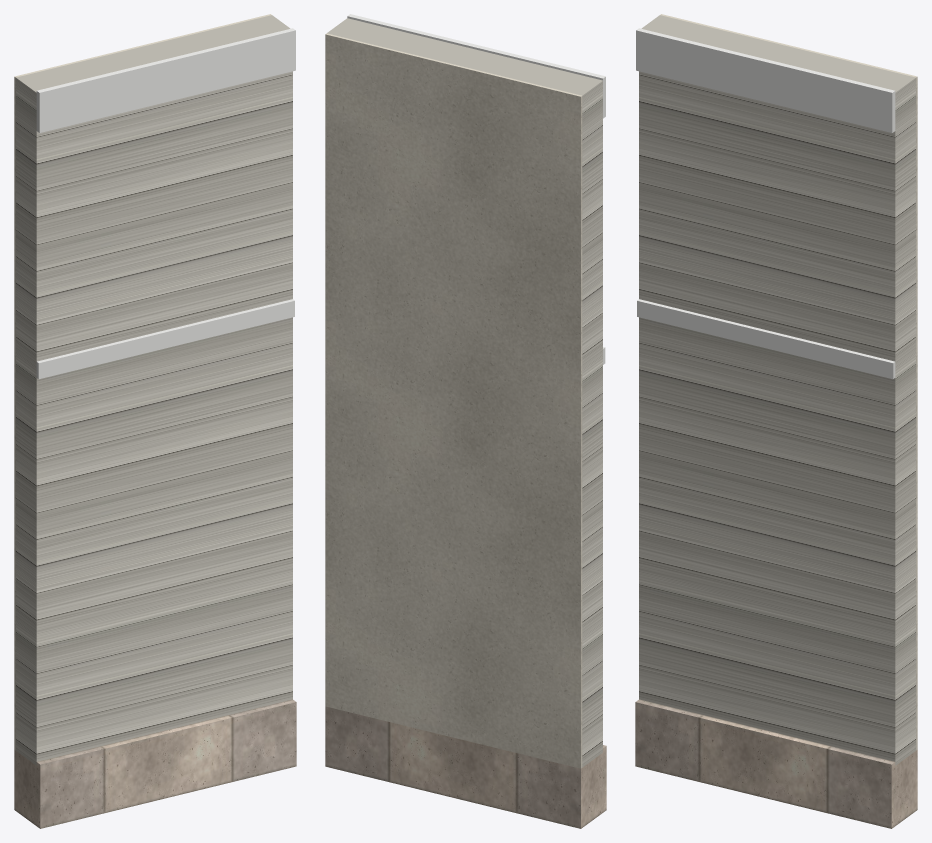
The model's file is nave_wall_belt.glb.
The picture shows the model from 3 angles, left to right: view 1: azimuth 30°, elevation 25°; view 2: azimuth 150°, elevation 25°; view 3: azimuth 330°, elevation 25°; orthographic projection.
Visible parts, largest first — view 1: nave_wall_belt_siding, nave_wall_belt_stone, nave_wall_belt_trim, nave_wall_belt_plaster; view 2: nave_wall_belt_plaster, nave_wall_belt_siding, nave_wall_belt_stone, nave_wall_belt_trim; view 3: nave_wall_belt_siding, nave_wall_belt_stone, nave_wall_belt_trim, nave_wall_belt_plaster.
Boxes of the visible parts, <box> form: nave_wall_belt_siding: <box>16,15,292,765</box>; nave_wall_belt_stone: <box>14,699,296,828</box>; nave_wall_belt_trim: <box>36,28,295,379</box>; nave_wall_belt_plaster: <box>14,14,271,750</box>; nave_wall_belt_plaster: <box>325,33,582,768</box>; nave_wall_belt_siding: <box>327,18,602,767</box>; nave_wall_belt_stone: <box>325,706,606,828</box>; nave_wall_belt_trim: <box>347,14,605,364</box>; nave_wall_belt_siding: <box>639,15,915,765</box>; nave_wall_belt_stone: <box>635,699,917,828</box>; nave_wall_belt_trim: <box>636,28,895,379</box>; nave_wall_belt_plaster: <box>660,14,917,750</box>.
Bounding box in the file's own units: 2 × 5.49 × 0.35.
4 materials, 3 textured.
